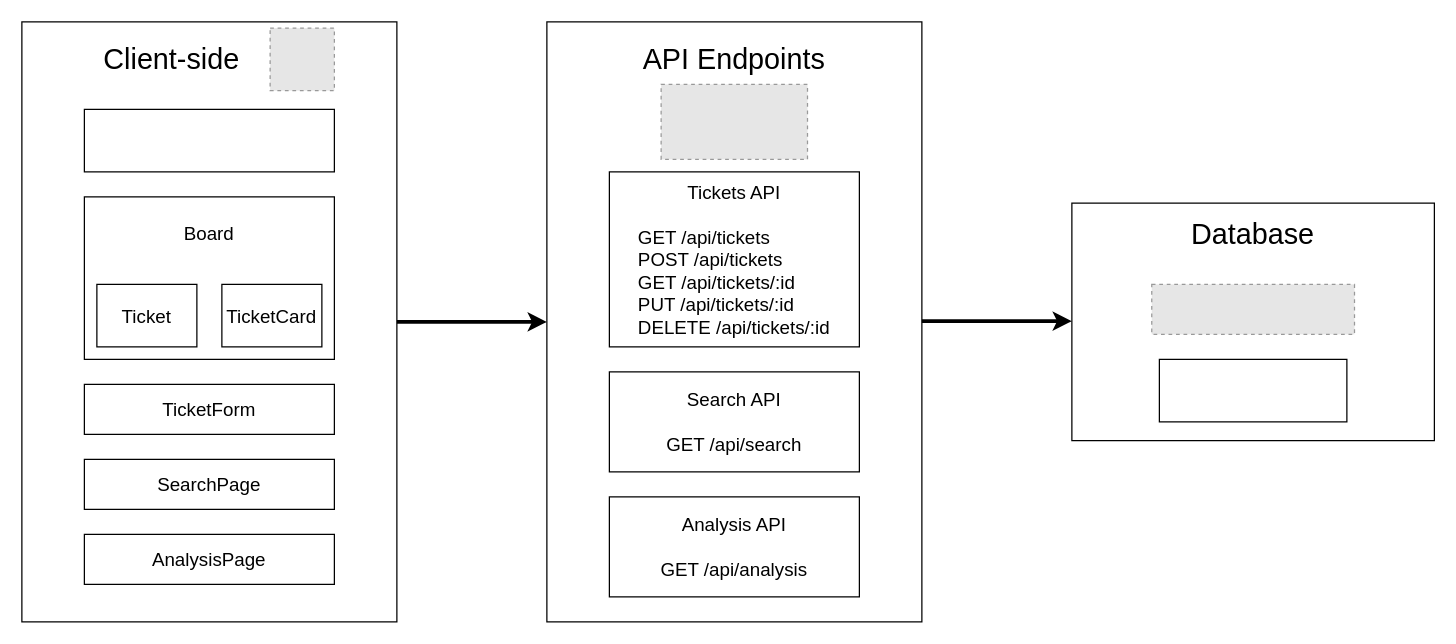
This 1456x644 diagram has some shape labels left out. Grey dashed boxes stand in for pictures. Each missing label, with the centre of its shape:
"Navigation" goes at point (208, 140).
"TicketSchema" goes at point (1252, 390).
